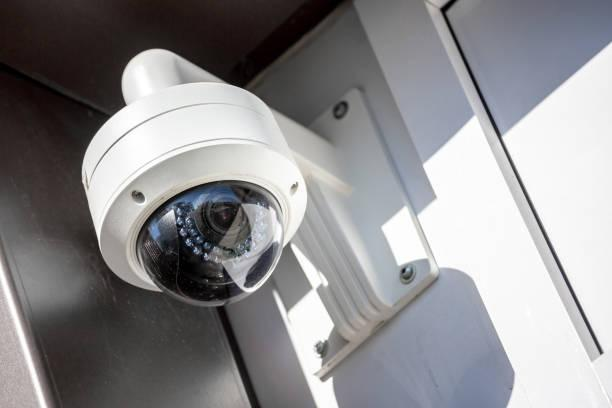camera: (33, 72, 354, 314)
